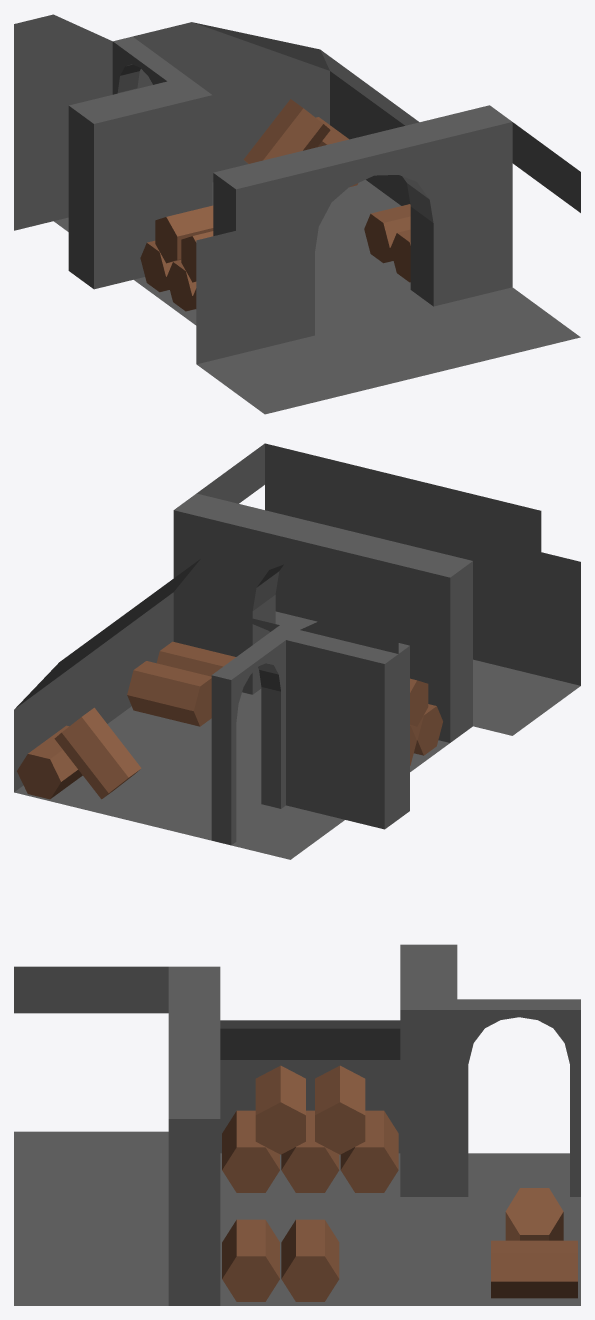
The model's file is storage_room_collider.gltf.
The picture shows the model from 3 angles, top to bottom: view 1: azimuth 30°, elevation 25°; view 2: azimuth 150°, elevation 25°; view 3: azimuth 270°, elevation 25°; orthographic projection. The views are drawn at different scales.
Parts seen in each view (by area): view 1: Walls, ArchBig, SeparatingWall, Barrel.008, ArchSmall, Barrel.004, Barrel.006, Barrel.002, Barrel.001, Barrel.005, Barrel.003; view 2: Walls, ArchBig, SeparatingWall, ArchSmall, Barrel.006, Barrel.008, Barrel.007, Barrel.005, Barrel, Barrel.003; view 3: Walls, ArchBig, SeparatingWall, ArchSmall, Barrel.007, Barrel.006, Barrel.005, Barrel.004, Barrel.003, Barrel.002, Barrel, Barrel.008 (+1 smaller).
Part boxes in pixels (x1=…): Walls: x1=14, y1=14, x2=580, y2=414; ArchBig: x1=213, y1=105, x2=512, y2=354; SeparatingWall: x1=68, y1=76, x2=212, y2=289; Barrel.008: x1=243, y1=99, x2=330, y2=163; ArchSmall: x1=112, y1=36, x2=186, y2=94; Barrel.004: x1=155, y1=205, x2=213, y2=263; Barrel.006: x1=364, y1=204, x2=410, y2=263; Barrel.002: x1=140, y1=240, x2=172, y2=292; Barrel.001: x1=166, y1=260, x2=196, y2=311; Barrel.005: x1=390, y1=229, x2=410, y2=282; Barrel.003: x1=181, y1=231, x2=213, y2=282; Walls: x1=14, y1=443, x2=580, y2=859; ArchBig: x1=173, y1=493, x2=472, y2=742; SeparatingWall: x1=266, y1=616, x2=409, y2=829; ArchSmall: x1=211, y1=635, x2=285, y2=845; Barrel.006: x1=127, y1=661, x2=211, y2=726; Barrel.008: x1=54, y1=707, x2=141, y2=799; Barrel.007: x1=17, y1=725, x2=82, y2=799; Barrel.005: x1=156, y1=641, x2=235, y2=676; Barrel: x1=410, y1=704, x2=442, y2=755; Barrel.003: x1=410, y1=678, x2=428, y2=726; Walls: x1=14, y1=966, x2=580, y2=1305; ArchBig: x1=168, y1=966, x2=220, y2=1305; SeparatingWall: x1=400, y1=944, x2=457, y2=1196; ArchSmall: x1=457, y1=999, x2=580, y2=1196; Barrel.007: x1=491, y1=1240, x2=577, y2=1298; Barrel.006: x1=281, y1=1219, x2=339, y2=1301; Barrel.005: x1=222, y1=1219, x2=279, y2=1301; Barrel.004: x1=315, y1=1065, x2=365, y2=1154; Barrel.003: x1=255, y1=1065, x2=305, y2=1154; Barrel.002: x1=340, y1=1110, x2=398, y2=1192; Barrel: x1=222, y1=1110, x2=279, y2=1192; Barrel.008: x1=505, y1=1188, x2=563, y2=1240.
Size of what is drawn, in the model's own units: 8 by 5 by 11.
